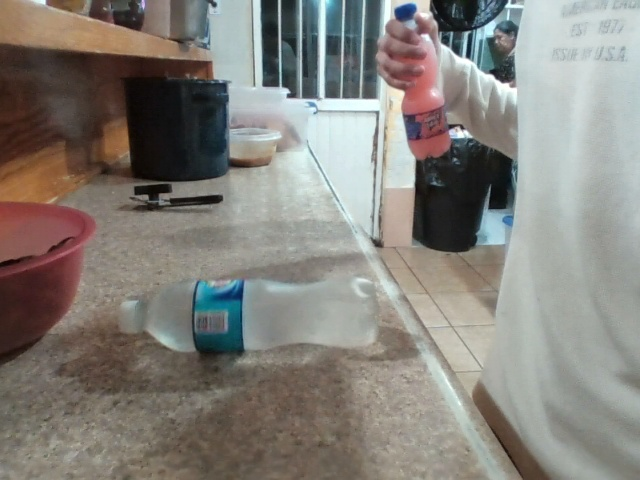botella: (109, 262, 471, 392), (355, 3, 501, 169)
